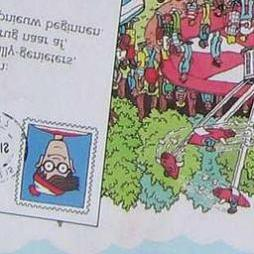waldos: (27, 125, 93, 198)
